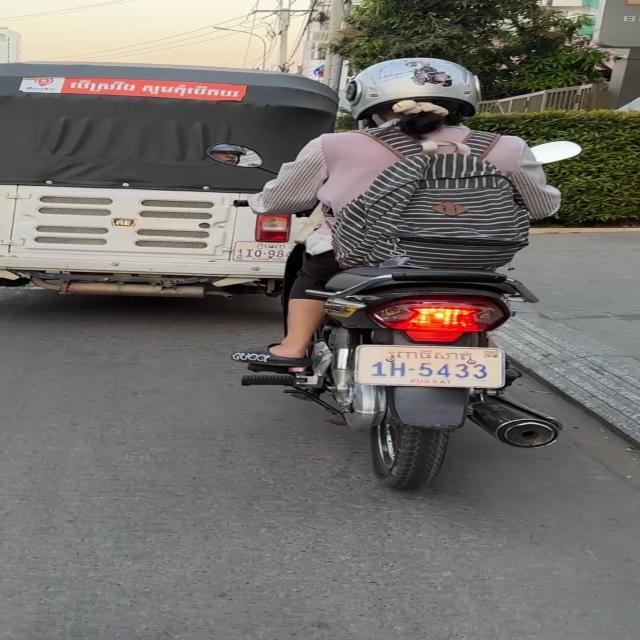Pursat: (386, 349, 474, 362)
